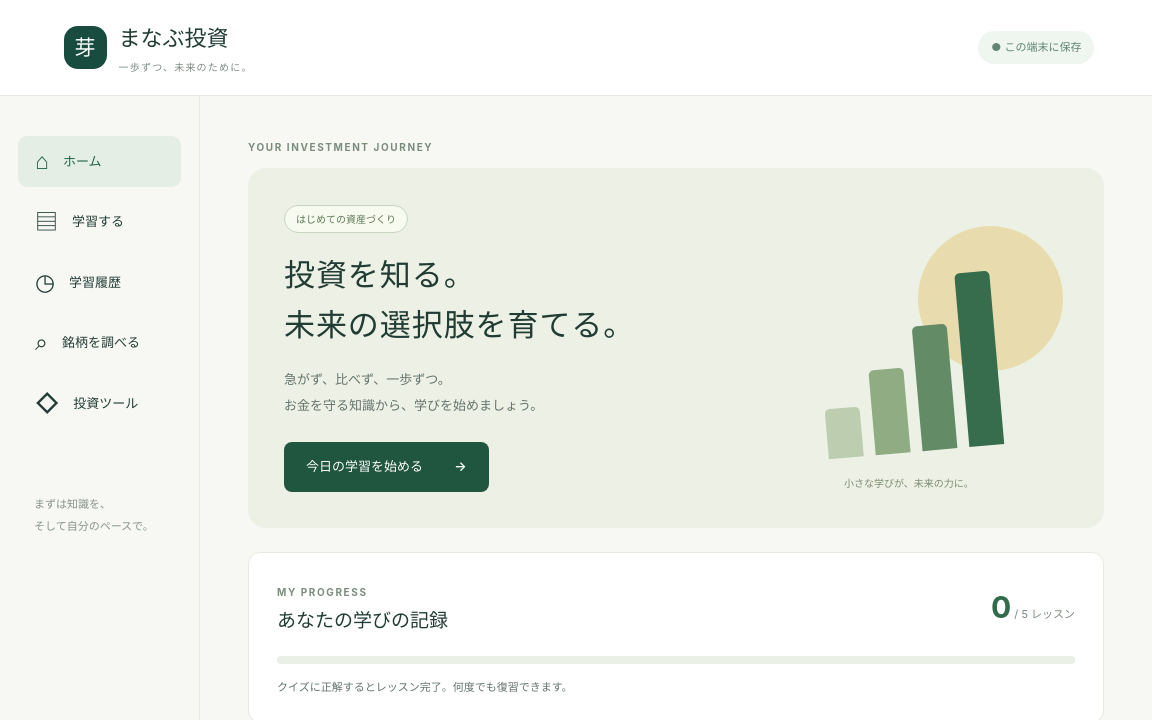
Test: レビュー指摘の回帰テスト › クイズの回答ボタン付近で保存失敗を知らせ、選択を維持して再試行できる
Click the button "今日の学習を始める →" at (386, 467), box [284,442,489,492]
(page scrolled)
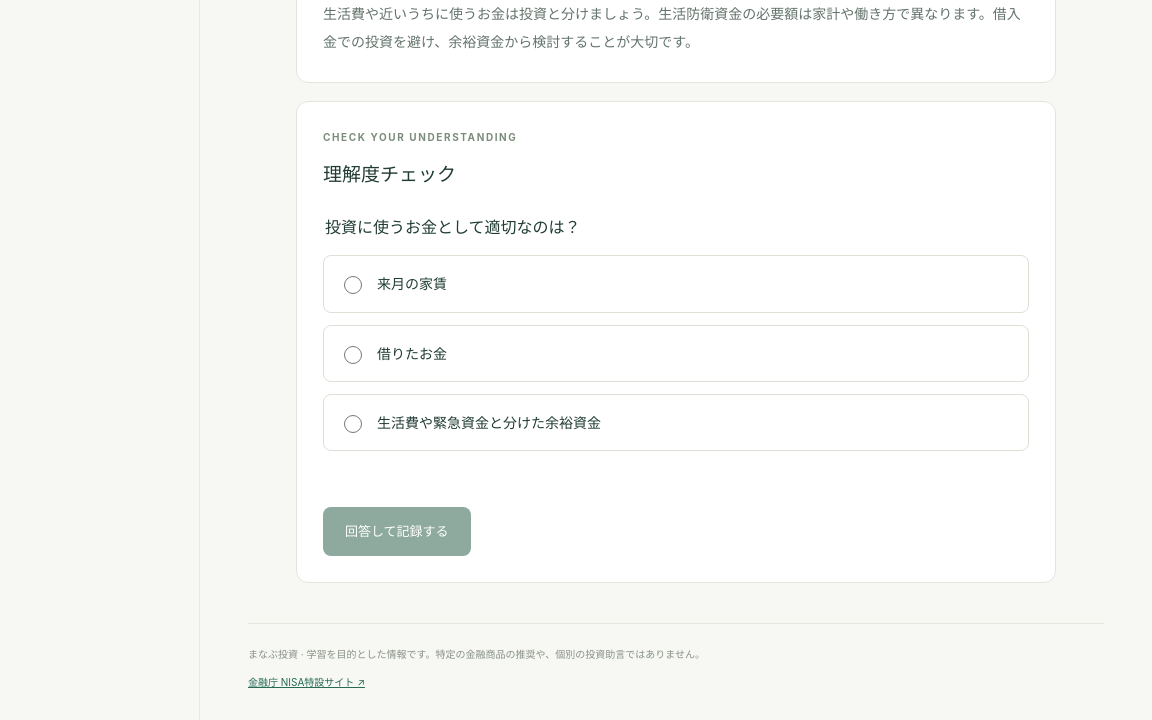
Click the radio button labelled "生活費や緊急資金と分けた余裕資金" at (353, 424), box [344,415,362,433]
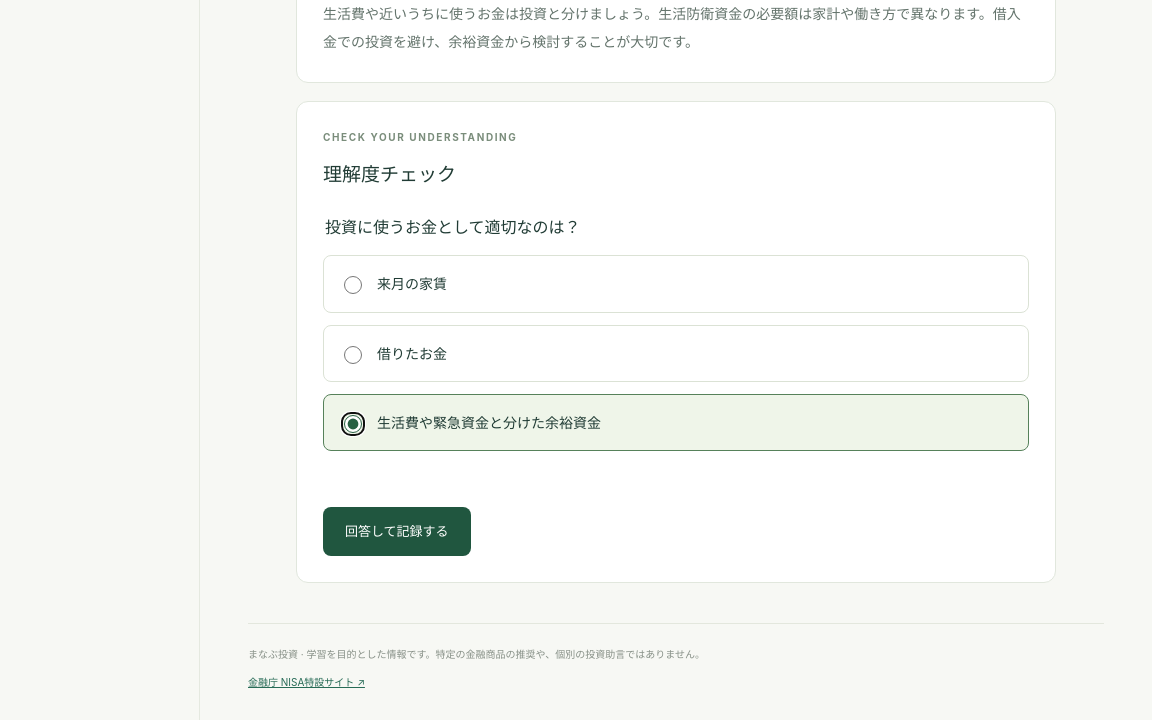
Click the button "回答して記録する" at (397, 532), box [323,507,471,556]
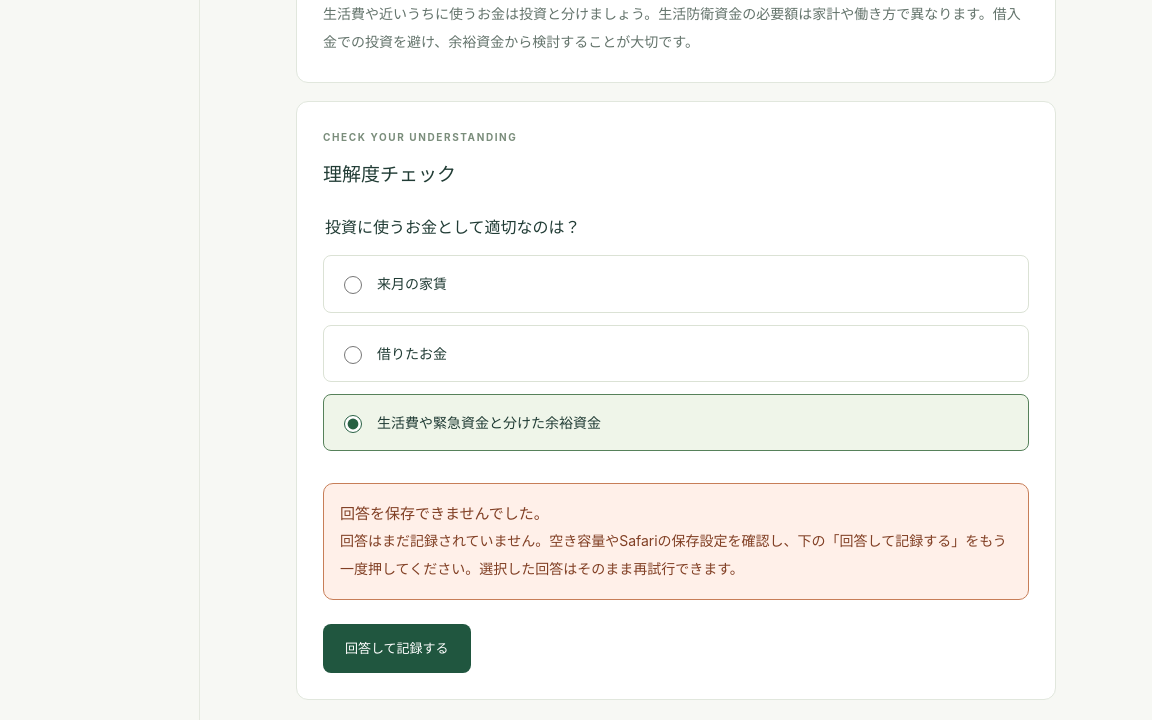
Now the radio button labelled "生活費や緊急資金と分けた余裕資金" is checked, box [344,415,362,433]
Now the message shows "もう一度押してください", box [340,532,1007,577]
Click the button "回答して記録する" at (397, 649), box [323,624,471,673]
(page scrolled)
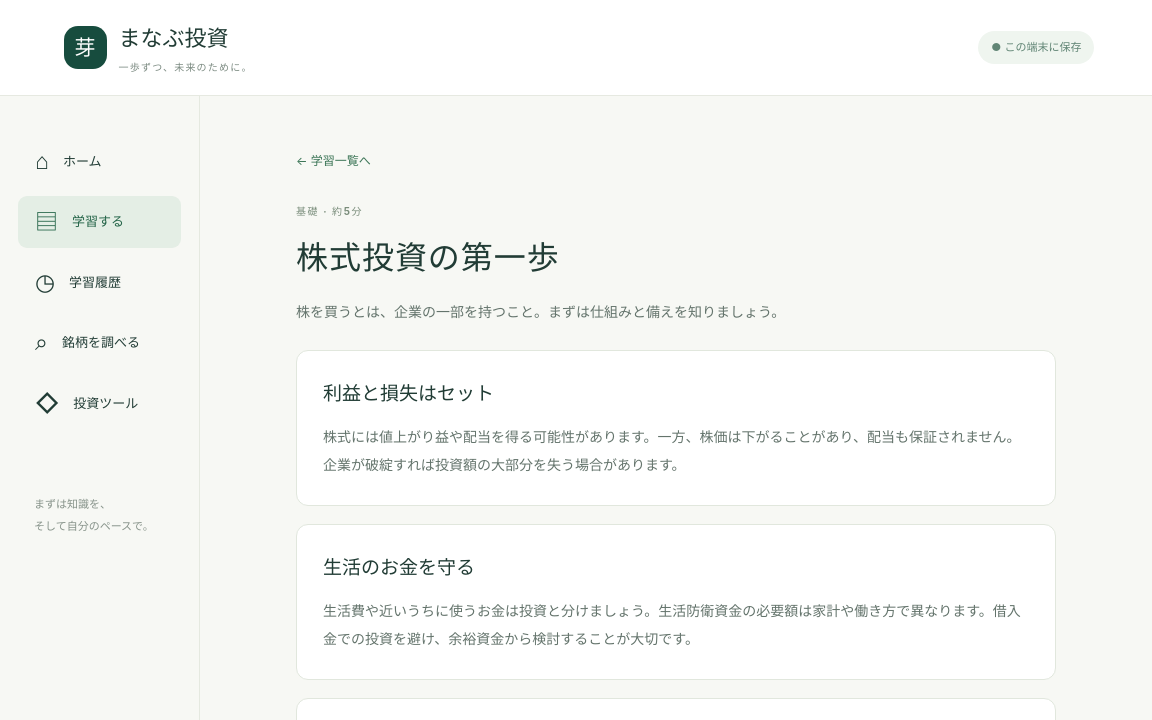
Click the button "⌂ ホーム" at (100, 162), box [18,136,181,187]
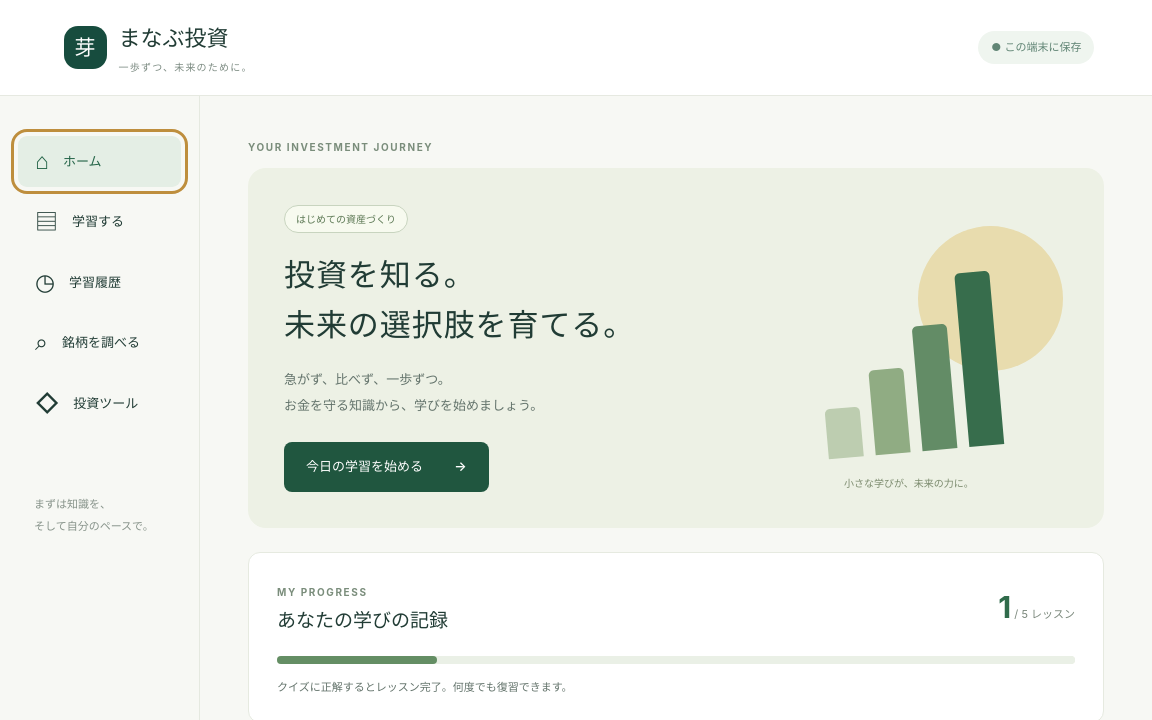
Now the progress indicator holds "1", box [277,656,1075,664]
